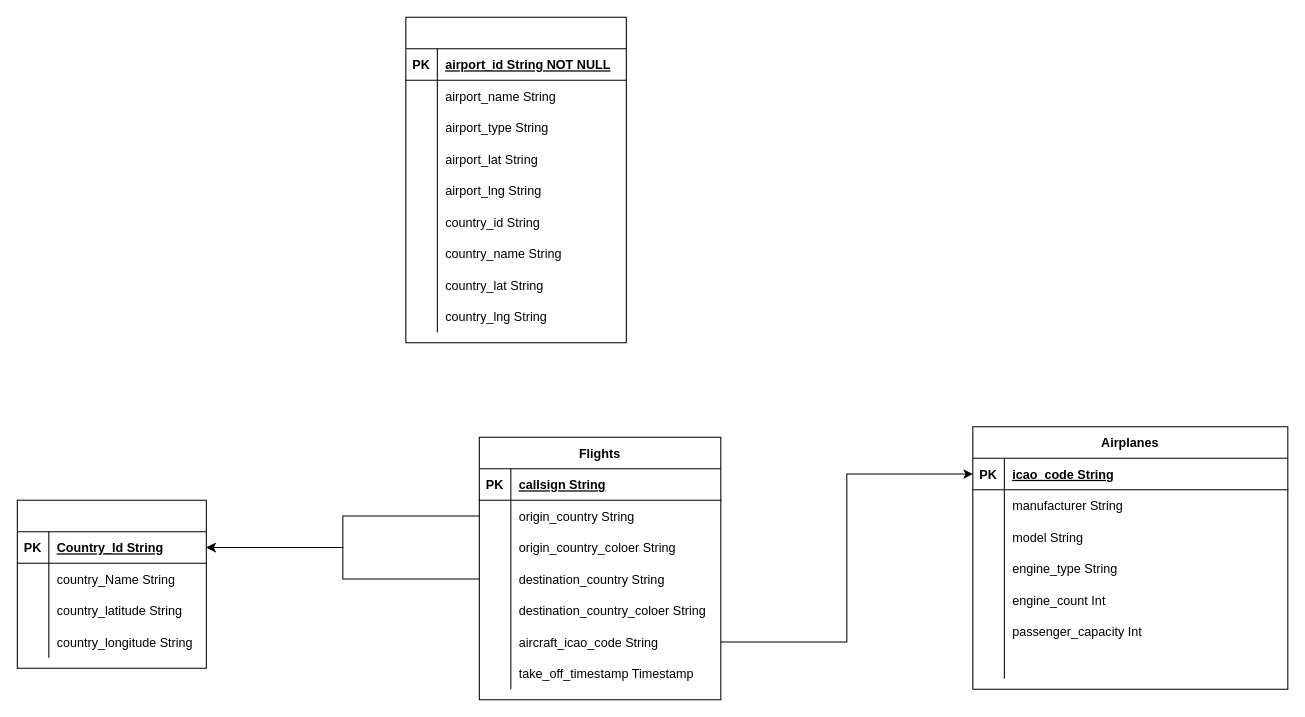
Image size: 1305x717. Some labels were removed from this diagram. The box of each missing label's shape, as (x1, y1, x2, y2) in pixels:
Airports: (405, 16, 626, 343)
Countries: (16, 499, 206, 668)
